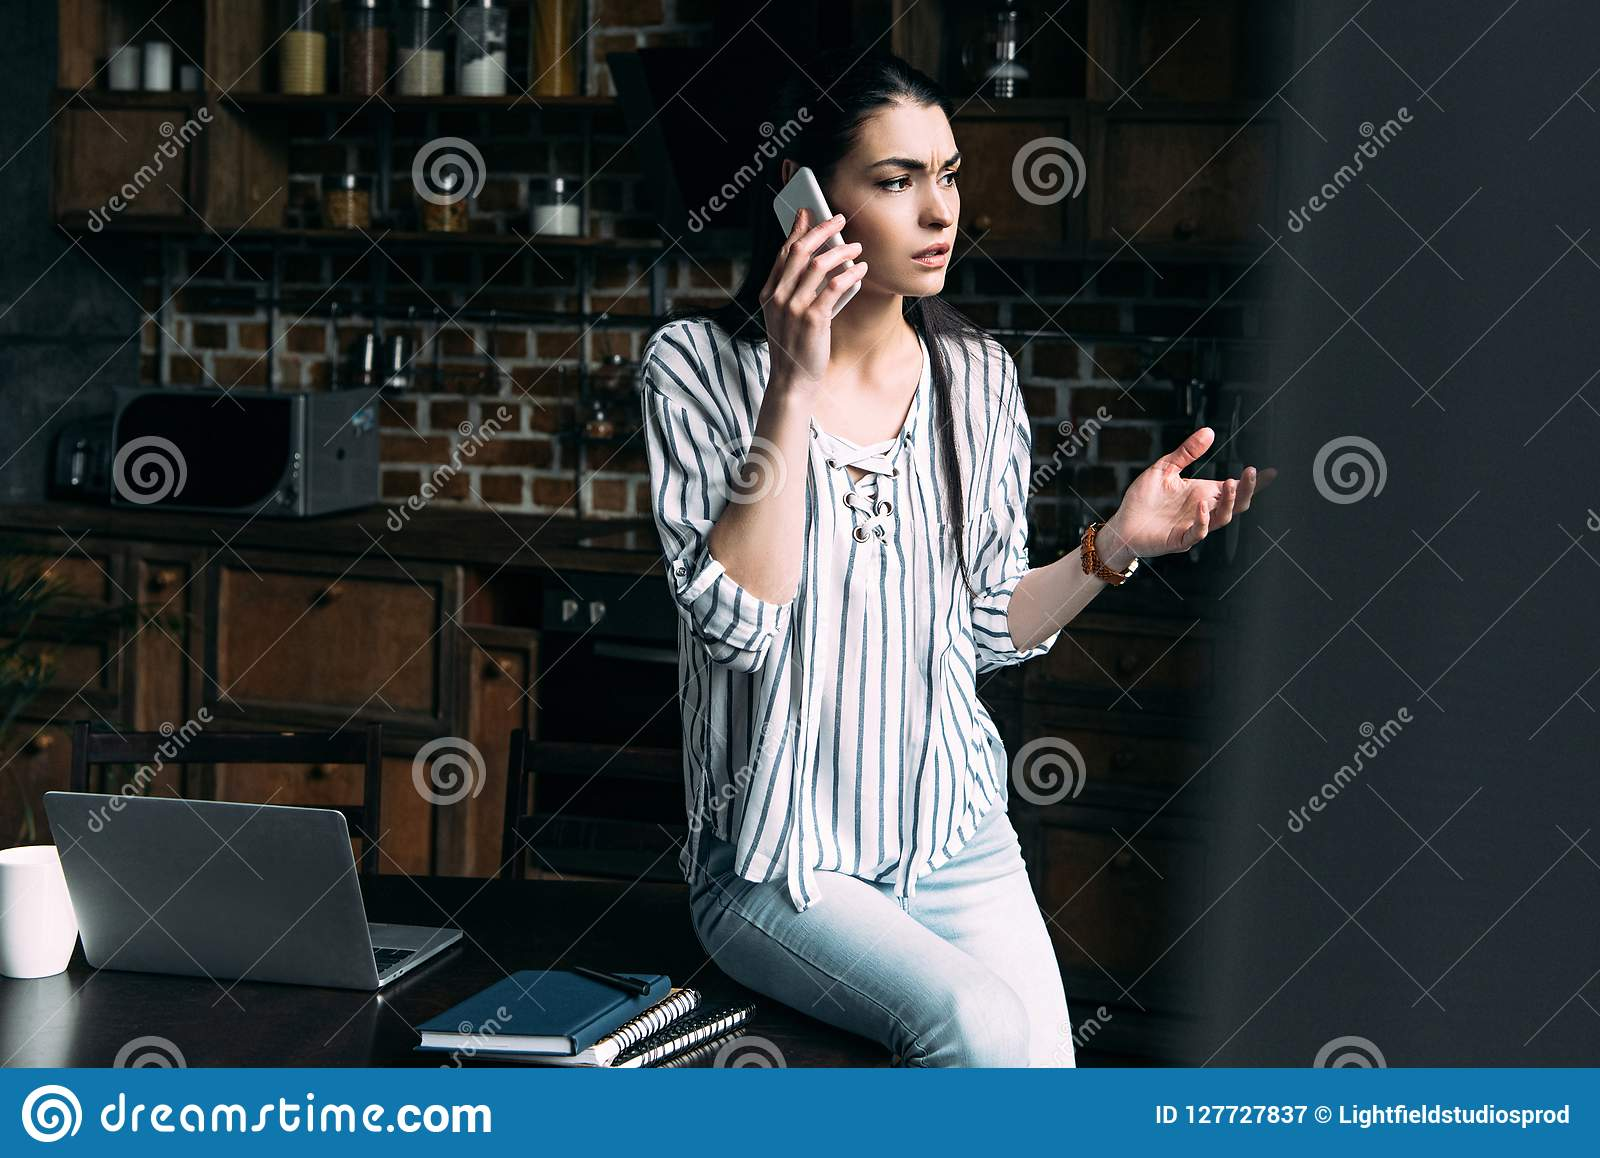phone: (771, 169, 860, 327)
talk: (757, 135, 965, 398)
